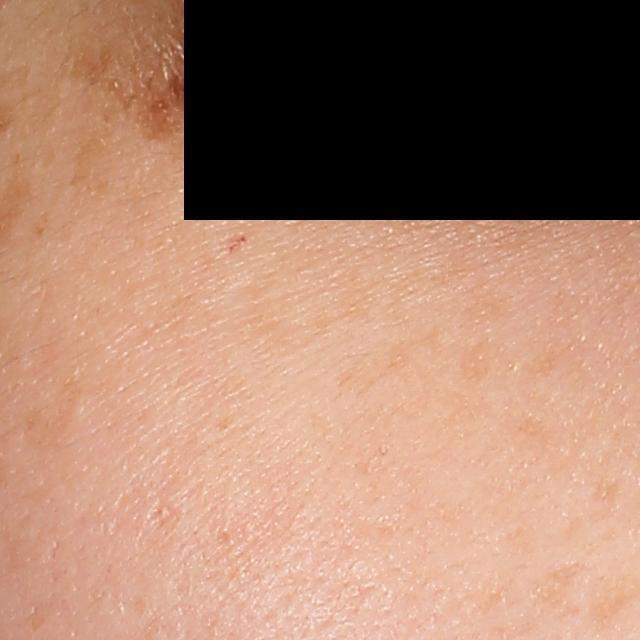comedo: (60, 392, 88, 425)
melasma: (64, 23, 212, 148), (60, 128, 117, 206), (455, 279, 517, 331), (458, 332, 511, 389)
